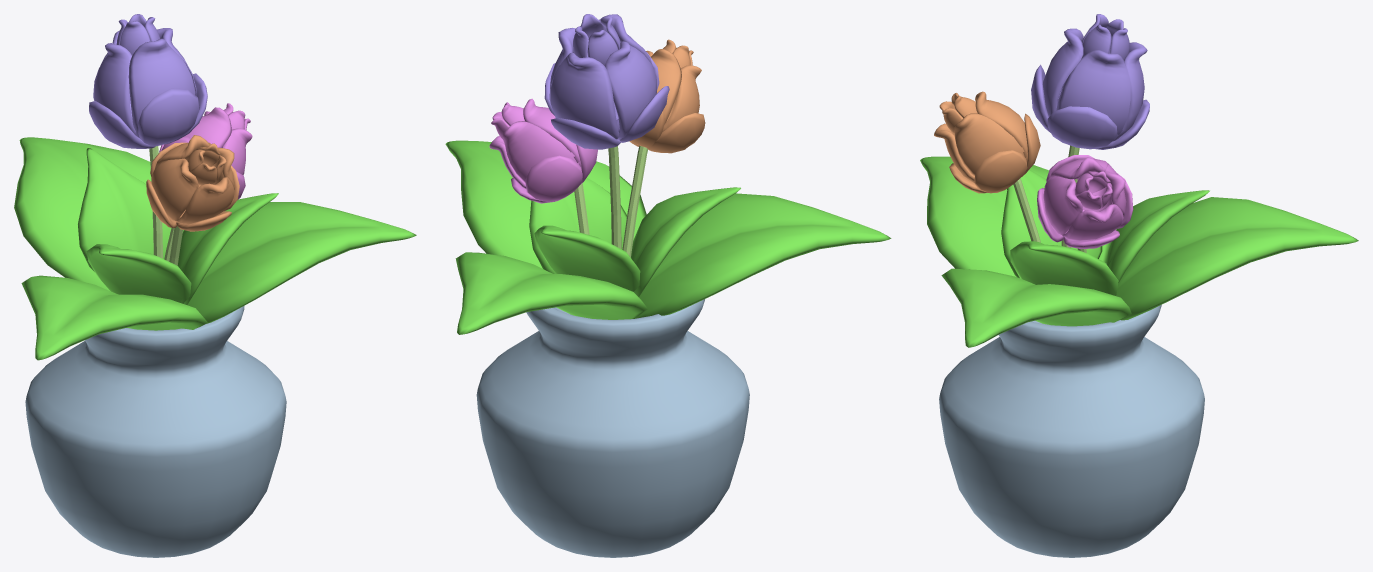
File: flower2.glb
The picture shows the model from 3 angles, left to right: view 1: azimuth 30°, elevation 25°; view 2: azimuth 150°, elevation 25°; view 3: azimuth 270°, elevation 25°; orthographic projection. The views are drawn at different scales.
Visible parts, largest first — view 1: Circle, Plane.015, Plane.013, Plane.014, Plane.016, Plane.017, Plane.003, Plane.018, Plane.011, Plane.002, Plane.020, Plane.021 (+8 smaller); view 2: Circle, Plane.014, Plane.013, Plane.015, Plane.017, Plane.016, Plane.001, Plane.018, Plane.002, Plane.034, Plane.042, Plane.028 (+8 smaller); view 3: Circle, Plane.013, Plane.015, Plane.014, Plane.018, Plane.004, Plane.016, Plane.017, Plane.022, Plane.012, Plane.003, Plane.030 (+12 smaller).
Boxes of the visible parts, box(x1,y1,x2,y2) form: Circle: box(25, 306, 286, 557); Plane.015: box(187, 202, 416, 323); Plane.013: box(14, 137, 183, 291); Plane.014: box(21, 275, 207, 360); Plane.016: box(78, 148, 171, 271); Plane.017: box(86, 244, 191, 303); Plane.003: box(128, 38, 195, 137); Plane.018: box(177, 193, 278, 304); Plane.011: box(138, 88, 199, 146); Plane.002: box(93, 43, 135, 135); Plane.020: box(151, 158, 198, 220); Plane.021: box(175, 177, 234, 223); Circle: box(476, 299, 749, 557); Plane.014: box(633, 193, 891, 318); Plane.013: box(455, 252, 647, 334); Plane.015: box(445, 140, 646, 268); Plane.017: box(631, 187, 740, 296); Plane.016: box(534, 225, 640, 291); Plane.001: box(550, 53, 619, 139); Plane.018: box(529, 178, 626, 273); Plane.002: box(605, 41, 656, 139); Plane.034: box(502, 121, 579, 183); Plane.042: box(525, 155, 582, 201); Plane.028: box(646, 113, 705, 153); Circle: box(939, 305, 1204, 557); Plane.013: box(1116, 197, 1358, 320); Plane.015: box(941, 268, 1131, 347); Plane.014: box(920, 156, 1110, 276); Plane.018: box(1010, 241, 1118, 295); Plane.004: box(1056, 50, 1130, 134); Plane.016: box(1106, 190, 1209, 282); Plane.017: box(1001, 169, 1102, 277); Plane.022: box(954, 113, 1026, 176); Plane.012: box(1047, 106, 1117, 149); Plane.003: box(1042, 28, 1083, 116); Plane.030: box(974, 150, 1027, 193).
Size of the model in its own units: 1.44 by 1.71 by 1.33.
